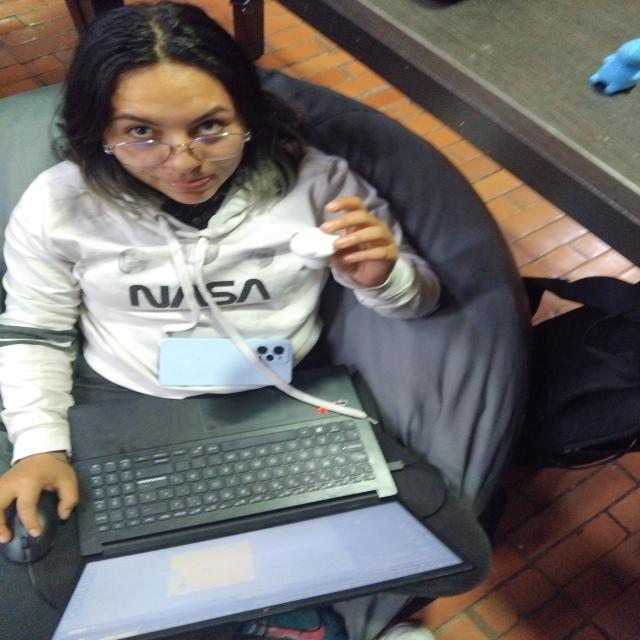Hongo: (280, 222, 351, 274)
